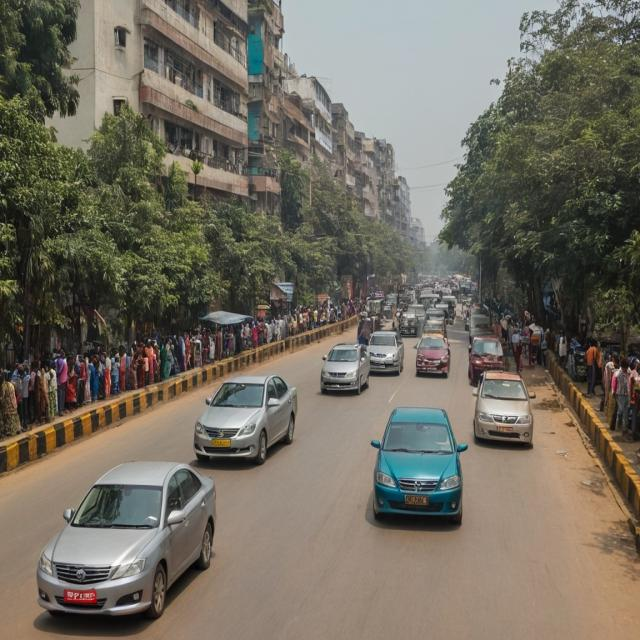blue: (374, 405, 466, 539)
maroon: (468, 331, 509, 380), (417, 332, 448, 380)
silver: (38, 462, 212, 635), (196, 369, 291, 474), (474, 365, 531, 453), (320, 340, 367, 394), (360, 329, 404, 377)
